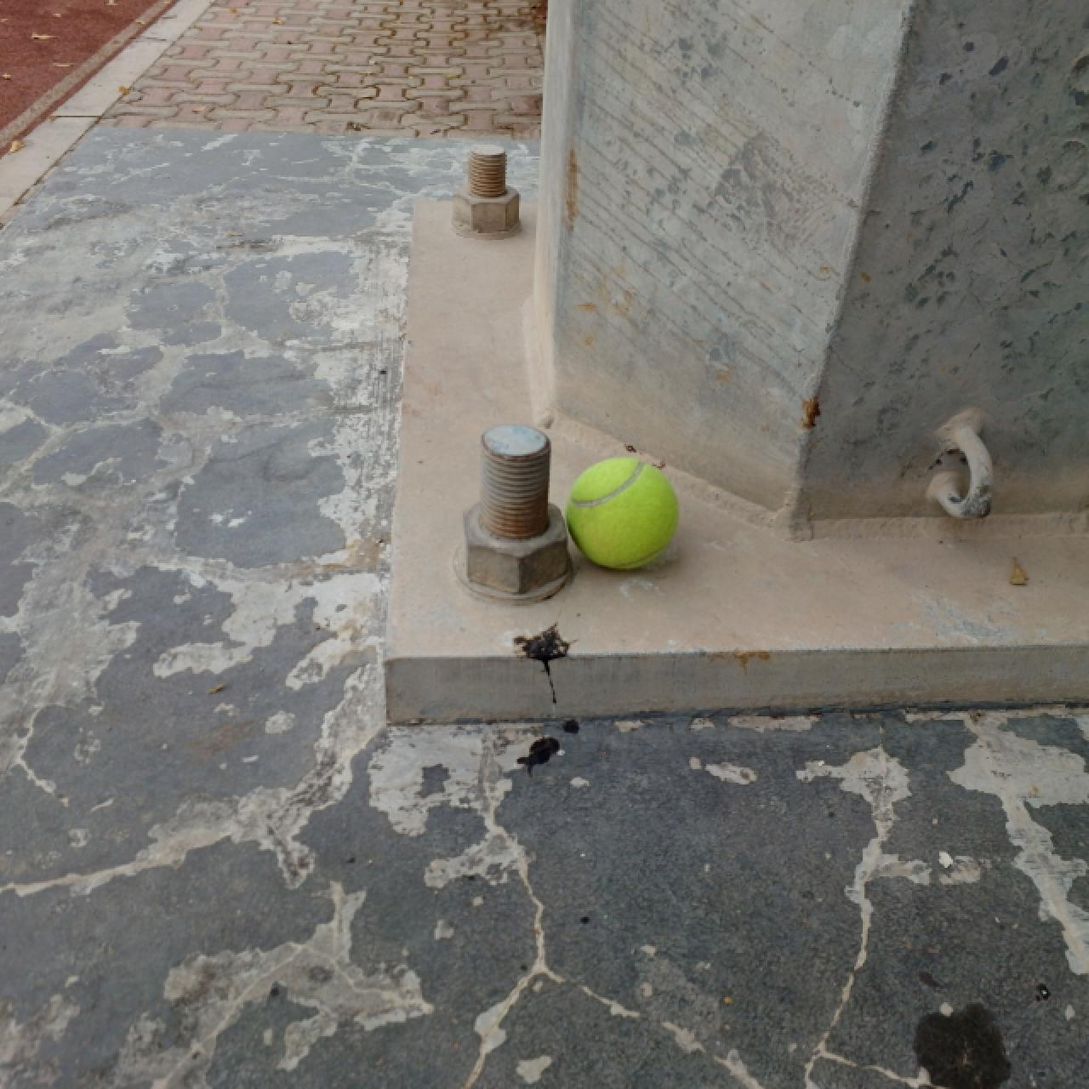tennis-ball: (565, 455, 681, 574)
